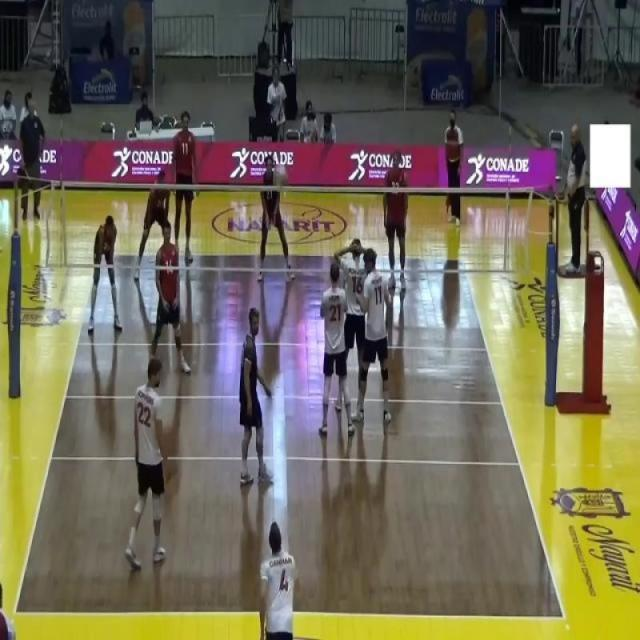volleyball: (272, 162, 289, 188)
